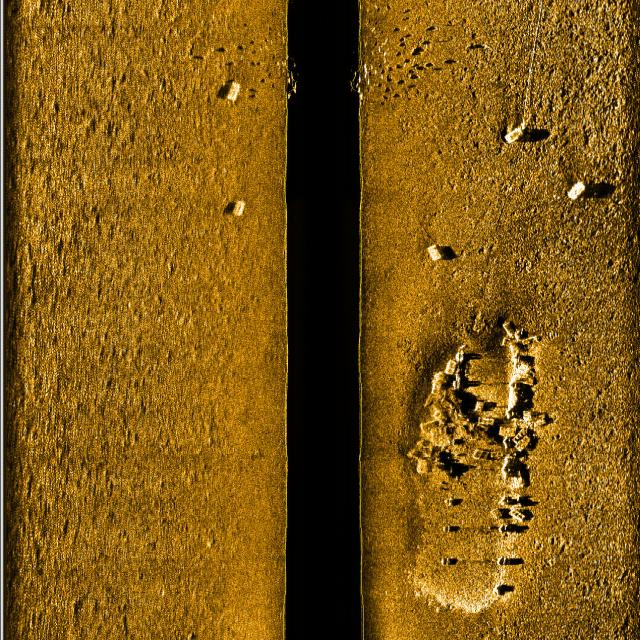other: (410, 310, 538, 601), (214, 69, 252, 111), (500, 112, 531, 151), (564, 172, 586, 204), (228, 192, 248, 224), (421, 237, 444, 264)
